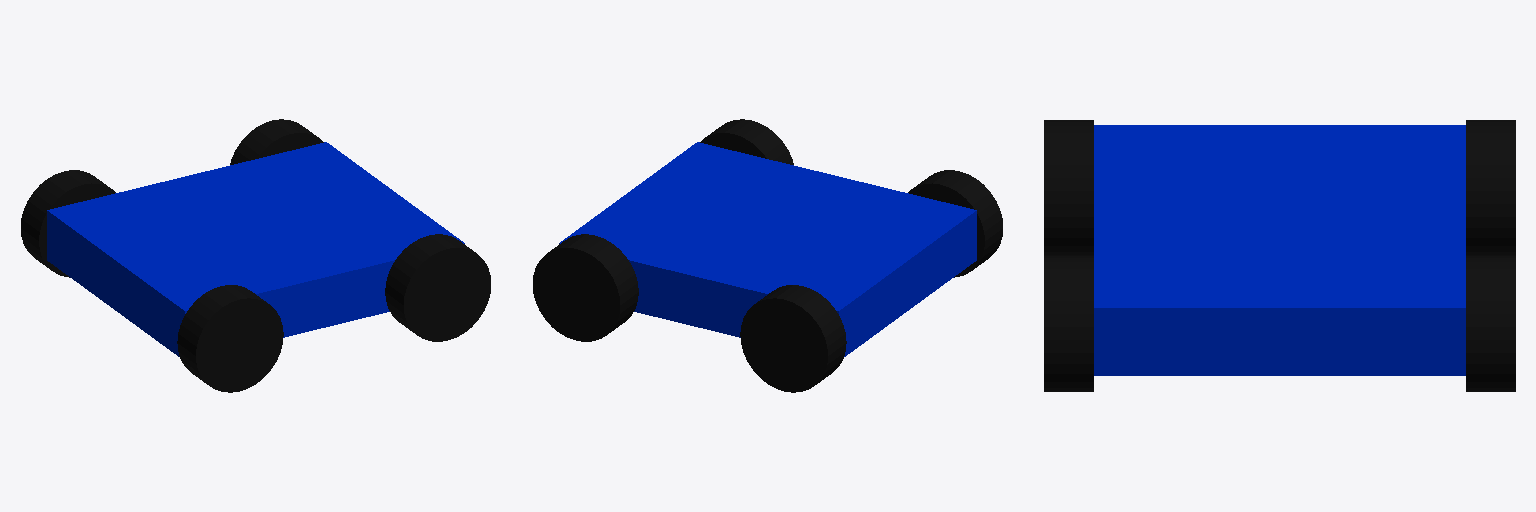
The robot description file, URDF, robot "rover_basico":
<?xml version="1.0"?>
<robot name="rover_basico">

  <link name="chasis">
    <visual>
      <geometry><box size="0.35 0.30 0.06"/></geometry>
      <material name="azul"><color rgba="0 0.2 0.8 1"/></material>
    </visual>
    <collision>
      <geometry><box size="0.35 0.30 0.06"/></geometry>
    </collision>
    <inertial>
      <mass value="4.0"/>
      <!-- Centro de masa bajado al fondo del chasis para mayor estabilidad -->
      <origin xyz="0 0 -0.025"/>
      <!-- Inercia aumentada en roll/pitch para resistir volcado -->
      <inertia ixx="0.25" ixy="0" ixz="0"
               iyy="0.25" iyz="0"
               izz="0.15"/>
    </inertial>
  </link>

  <!-- RUEDA DELANTERA IZQUIERDA (joint 0) -->
  <link name="rueda_di">
    <visual>
      <origin rpy="1.5708 0 0"/>
      <geometry><cylinder radius="0.055" length="0.04"/></geometry>
      <material name="negro"><color rgba="0.1 0.1 0.1 1"/></material>
    </visual>
    <collision>
      <origin rpy="1.5708 0 0"/>
      <geometry><cylinder radius="0.055" length="0.04"/></geometry>
    </collision>
    <inertial>
      <mass value="0.5"/>
      <inertia ixx="0.0008" ixy="0" ixz="0"
               iyy="0.0008" iyz="0"
               izz="0.0008"/>
    </inertial>
  </link>
  <joint name="joint_rueda_di" type="continuous">
    <parent link="chasis"/>
    <child link="rueda_di"/>
    <!-- z=-0.005: rueda queda justo a nivel del borde inferior del chasis -->
    <!-- spawn_z=0.06 -> fondo rueda = 0.06 + (-0.005) - 0.055 = 0.0 (toca suelo exacto) -->
    <origin xyz="0.13 0.17 -0.005"/>
    <axis xyz="0 1 0"/>
  </joint>

  <!-- RUEDA DELANTERA DERECHA (joint 1) -->
  <link name="rueda_dd">
    <visual>
      <origin rpy="1.5708 0 0"/>
      <geometry><cylinder radius="0.055" length="0.04"/></geometry>
      <material name="negro"><color rgba="0.1 0.1 0.1 1"/></material>
    </visual>
    <collision>
      <origin rpy="1.5708 0 0"/>
      <geometry><cylinder radius="0.055" length="0.04"/></geometry>
    </collision>
    <inertial>
      <mass value="0.5"/>
      <inertia ixx="0.0008" ixy="0" ixz="0"
               iyy="0.0008" iyz="0"
               izz="0.0008"/>
    </inertial>
  </link>
  <joint name="joint_rueda_dd" type="continuous">
    <parent link="chasis"/>
    <child link="rueda_dd"/>
    <origin xyz="0.13 -0.17 -0.005"/>
    <axis xyz="0 1 0"/>
  </joint>

  <!-- RUEDA TRASERA IZQUIERDA (joint 2) -->
  <link name="rueda_ti">
    <visual>
      <origin rpy="1.5708 0 0"/>
      <geometry><cylinder radius="0.055" length="0.04"/></geometry>
      <material name="negro"><color rgba="0.1 0.1 0.1 1"/></material>
    </visual>
    <collision>
      <origin rpy="1.5708 0 0"/>
      <geometry><cylinder radius="0.055" length="0.04"/></geometry>
    </collision>
    <inertial>
      <mass value="0.5"/>
      <inertia ixx="0.0008" ixy="0" ixz="0"
               iyy="0.0008" iyz="0"
               izz="0.0008"/>
    </inertial>
  </link>
  <joint name="joint_rueda_ti" type="continuous">
    <parent link="chasis"/>
    <child link="rueda_ti"/>
    <origin xyz="-0.13 0.17 -0.005"/>
    <axis xyz="0 1 0"/>
  </joint>

  <!-- RUEDA TRASERA DERECHA (joint 3) -->
  <link name="rueda_td">
    <visual>
      <origin rpy="1.5708 0 0"/>
      <geometry><cylinder radius="0.055" length="0.04"/></geometry>
      <material name="negro"><color rgba="0.1 0.1 0.1 1"/></material>
    </visual>
    <collision>
      <origin rpy="1.5708 0 0"/>
      <geometry><cylinder radius="0.055" length="0.04"/></geometry>
    </collision>
    <inertial>
      <mass value="0.5"/>
      <inertia ixx="0.0008" ixy="0" ixz="0"
               iyy="0.0008" iyz="0"
               izz="0.0008"/>
    </inertial>
  </link>
  <joint name="joint_rueda_td" type="continuous">
    <parent link="chasis"/>
    <child link="rueda_td"/>
    <origin xyz="-0.13 -0.17 -0.005"/>
    <axis xyz="0 1 0"/>
  </joint>

</robot>

--- What the picture shows (computed from the rendered views, not written in the file) ---
3 views of the same robot in one strip: view 1: azimuth 30°, elevation 25°; view 2: azimuth 150°, elevation 25°; view 3: azimuth 270°, elevation 25° (orthographic).
Model rover_basico with 5 links and 4 joints (4 continuous), rooted at chasis, posed all joints at 0.
Links seen in each view (by area): view 1: chasis, rueda_td, rueda_dd, rueda_ti, rueda_di; view 2: chasis, rueda_ti, rueda_di, rueda_td, rueda_dd; view 3: chasis, rueda_di, rueda_dd, rueda_ti, rueda_td.
Link boxes in pixels (x1,y1,x2,y2): chasis: (47, 142, 464, 356); rueda_td: (177, 285, 283, 392); rueda_dd: (385, 234, 490, 341); rueda_ti: (21, 170, 115, 277); rueda_di: (230, 119, 323, 164); chasis: (559, 142, 976, 356); rueda_ti: (740, 285, 846, 392); rueda_di: (533, 234, 638, 341); rueda_td: (908, 170, 1002, 277); rueda_dd: (700, 119, 793, 164); chasis: (1094, 125, 1465, 375); rueda_di: (1466, 256, 1515, 391); rueda_dd: (1044, 256, 1093, 391); rueda_ti: (1466, 120, 1515, 255); rueda_td: (1044, 120, 1093, 255).
Bounding box of the posed robot: 0.37 × 0.38 × 0.11 m (x, y, z).
Geometry: primitives only (box / cylinder / sphere), no mesh files.
